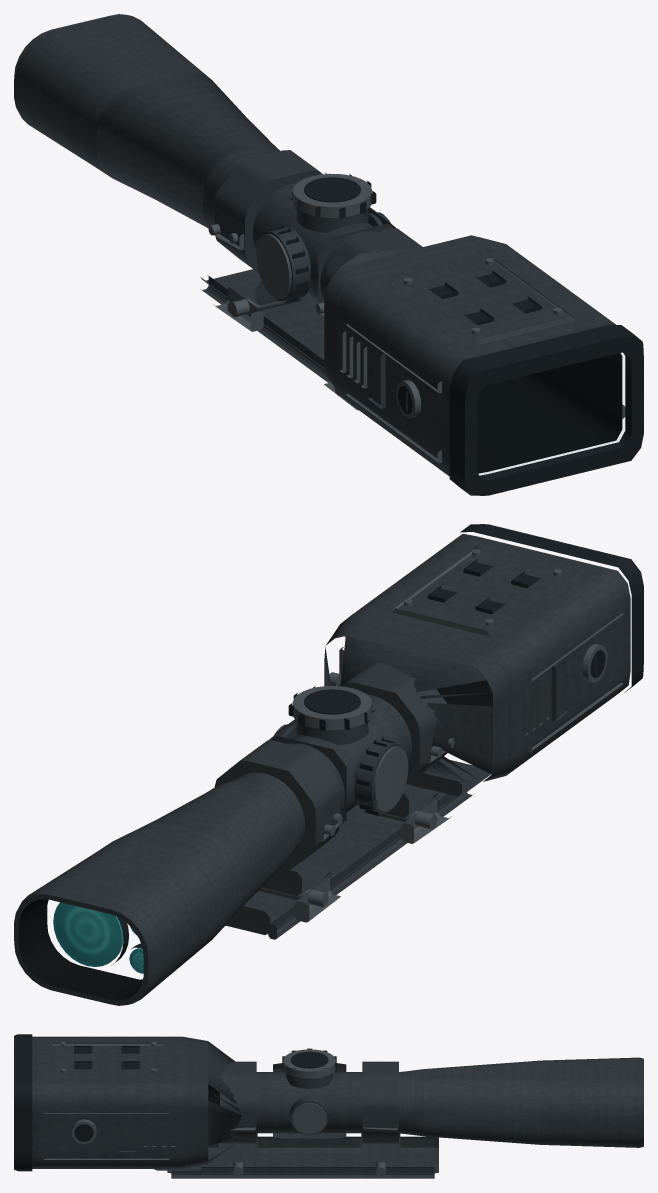
Rendered from spr_scope_pcvr.glb.
3 views of the same model, one above another, from view 1: azimuth 30°, elevation 25°; view 2: azimuth 150°, elevation 25°; view 3: azimuth 270°, elevation 25° (orthographic). The views are drawn at different scales.
Visible parts, largest first — view 1: ScopeHousing, ScopeMount, ScopeDarkInterior; view 2: ScopeHousing, ScopeMount, ScopeDarkInterior, FrontObjectiveGlass; view 3: ScopeHousing, ScopeMount.
Boxes of the visible parts, x1=… form: ScopeHousing: x1=14, y1=14, x2=643, y2=495; ScopeMount: x1=201, y1=150, x2=422, y2=410; ScopeDarkInterior: x1=477, y1=353, x2=622, y2=473; ScopeHousing: x1=14, y1=524, x2=643, y2=1005; ScopeMount: x1=214, y1=662, x2=490, y2=939; ScopeDarkInterior: x1=18, y1=680, x2=492, y2=1000; FrontObjectiveGlass: x1=53, y1=902, x2=143, y2=973; ScopeHousing: x1=14, y1=1034, x2=643, y2=1171; ScopeMount: x1=154, y1=1061, x2=438, y2=1178.
Size of the model in its own units: 0.0694 by 0.0566 by 0.292.
Materials: 6 (6 with a texture image).
